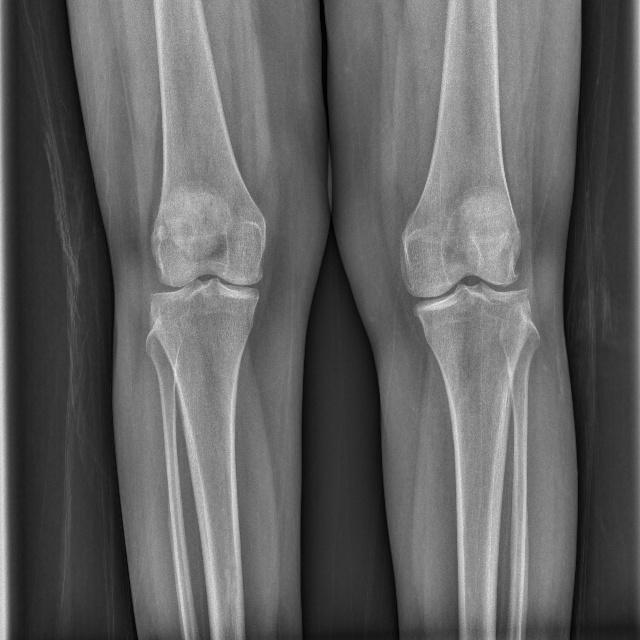Knee: (395, 235, 539, 353), (141, 222, 268, 338)
